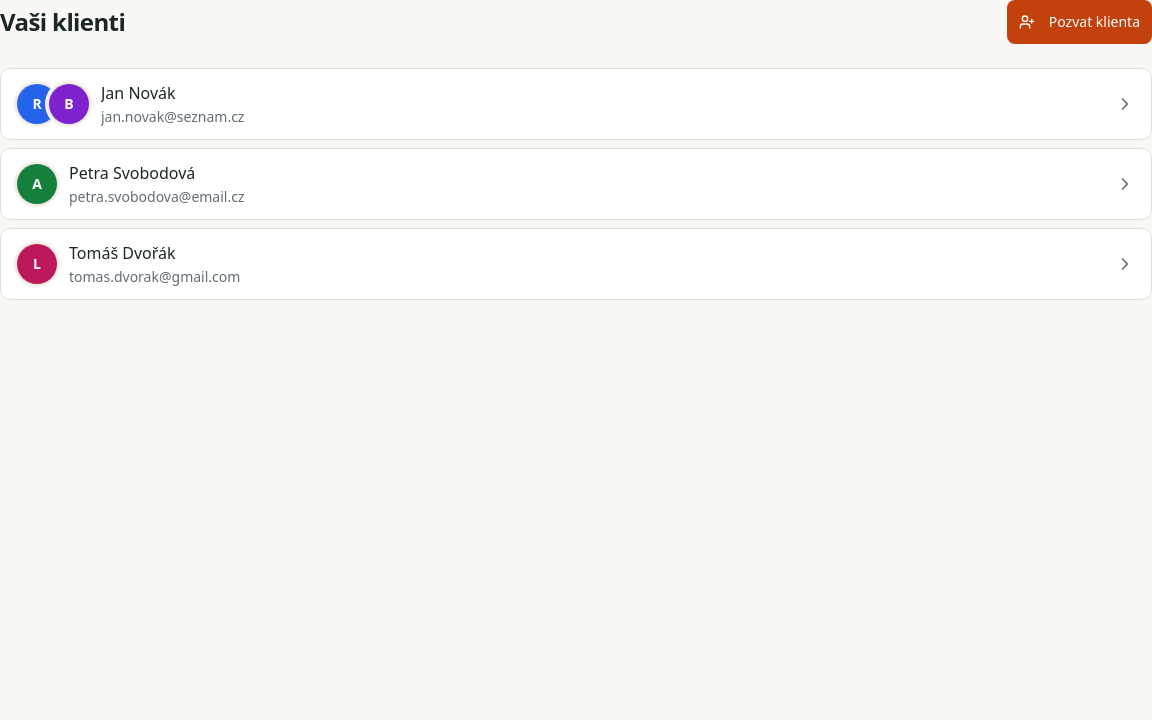
Test: ClientList › opens invite dialog when Pozvat klienta in header is clicked
Step 1. Click the button "Pozvat klienta" → (1079, 22), box x1=1007 y1=0 x2=1151 y2=44
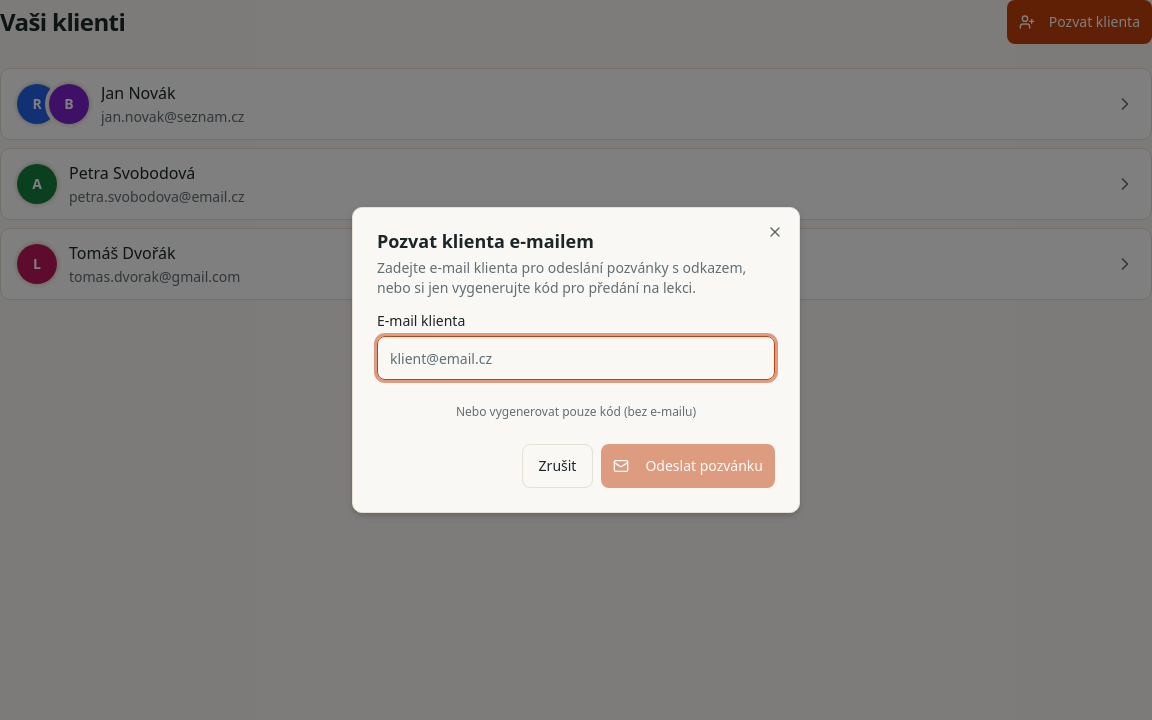
Expected: the dialog is shown, x1=352 y1=207 x2=800 y2=513
Expected: the heading "Pozvat klienta e-mailem" is shown, x1=377 y1=229 x2=594 y2=253
